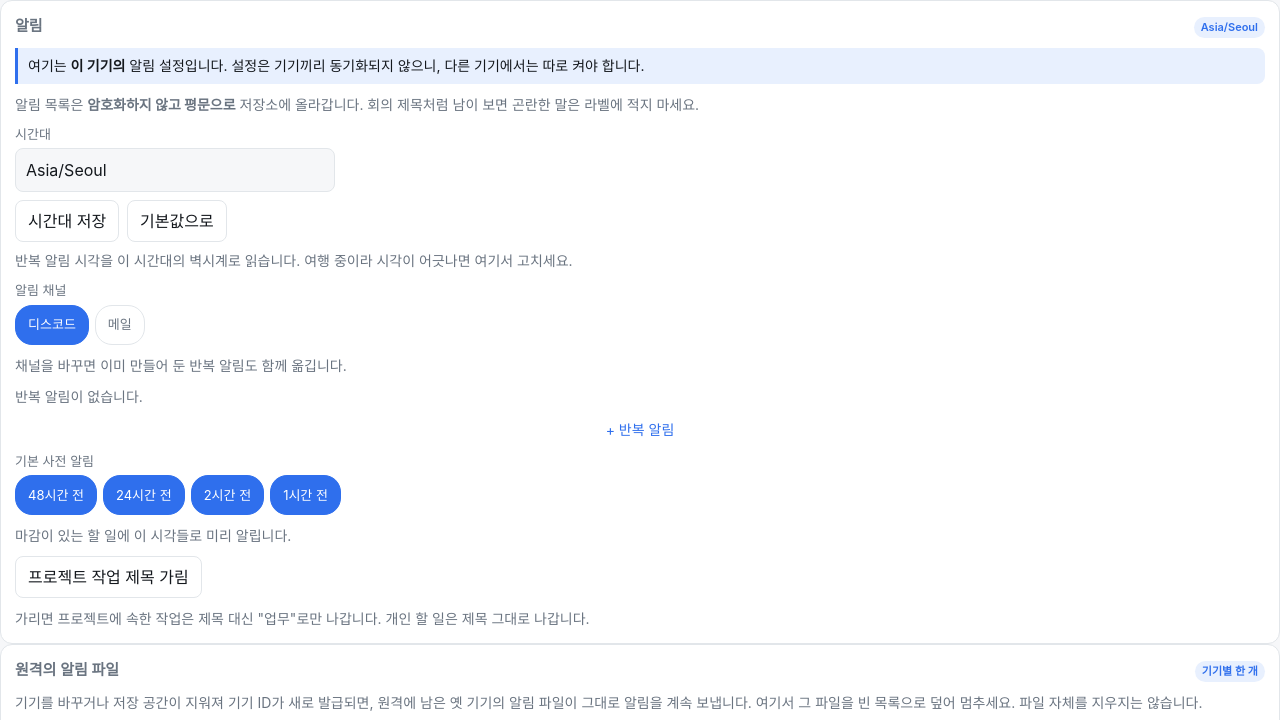
Scenario: 알림 설정 — 시간대 고치기 › 잘못된 시간대는 저장되지 않는다
Replace the text in the field labelled "시간대" with "어딘가" at [175, 170], box [15, 148, 335, 192]
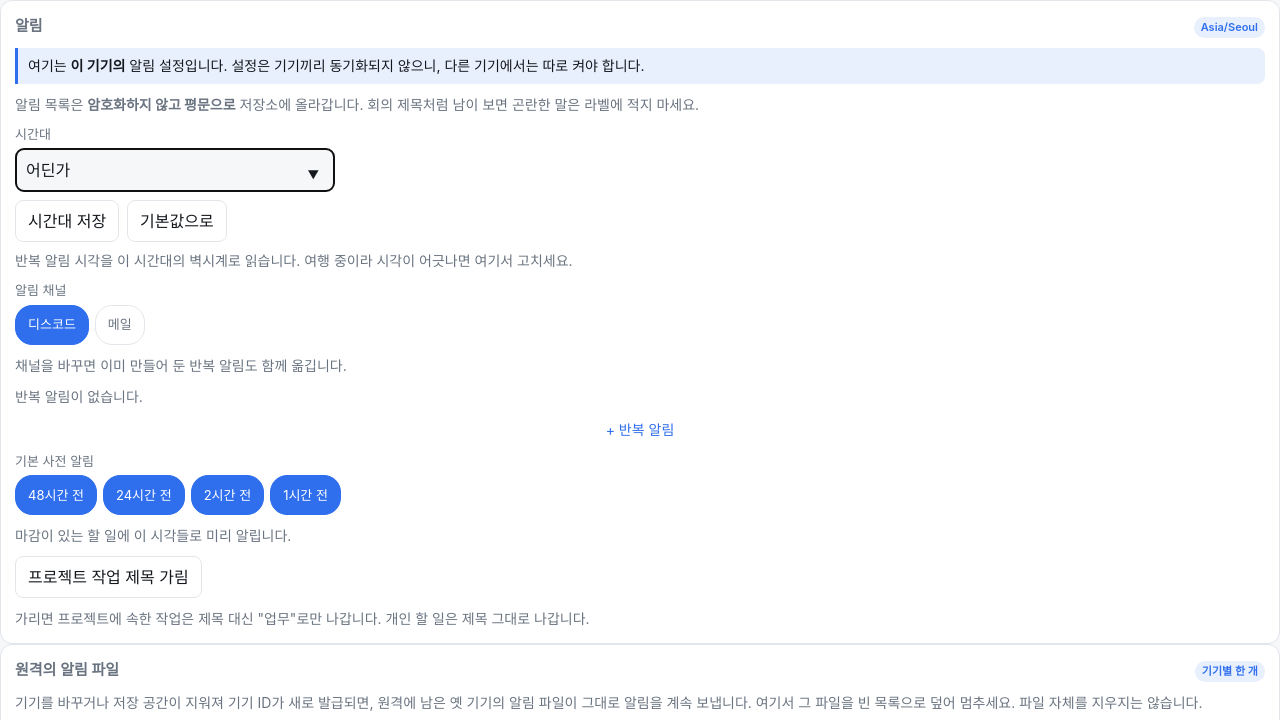
Click the button "시간대 저장" at [67, 221], box [15, 200, 119, 242]
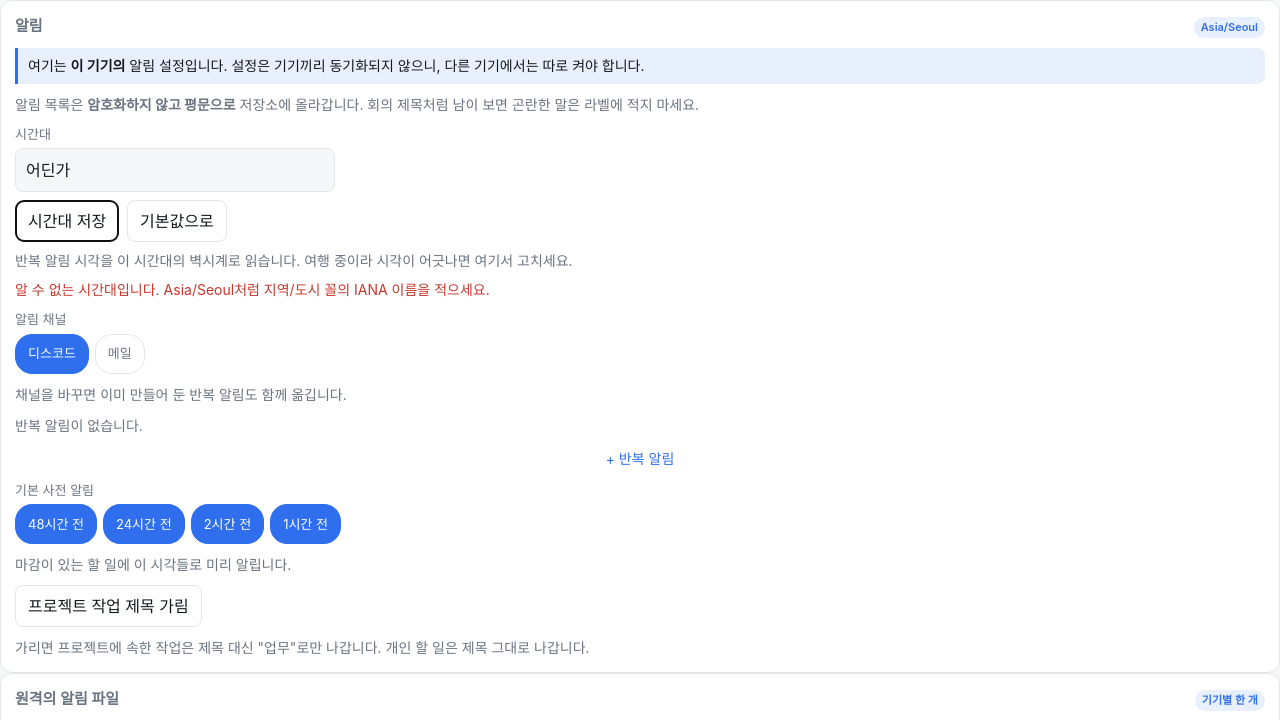
Expected: the text "Asia/Seoul" is shown, [1194, 17, 1265, 38]
Now the text "알 수 없는 시간대" is shown, box [15, 281, 490, 298]
